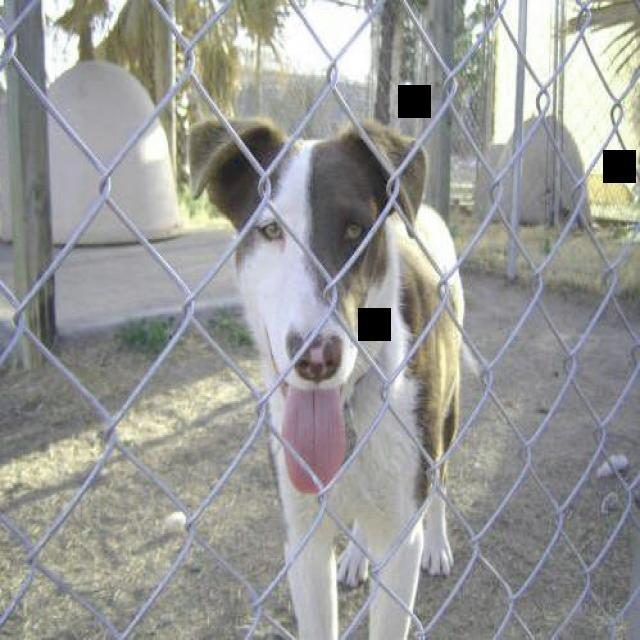adult_dog: (183, 109, 473, 640)
